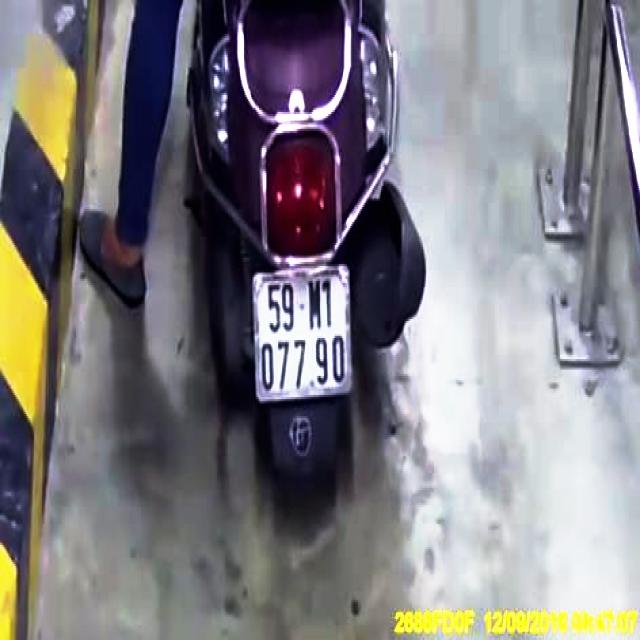license_plate: (256, 265, 351, 398)
